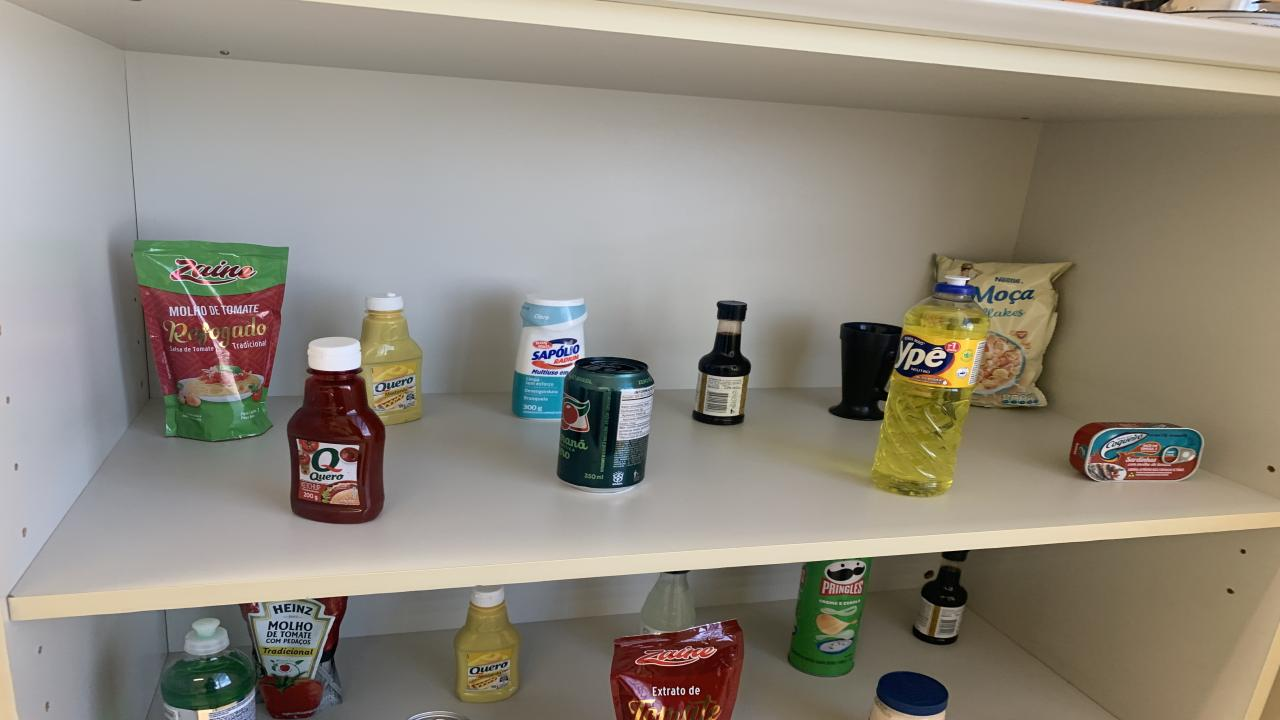Cleaner-Cleanup_Items: (512, 292, 588, 418)
Detergent-Cleanup_Items: (872, 278, 990, 497), (160, 617, 258, 720)
English_Sauce-Pantry_Items: (692, 302, 750, 426), (912, 551, 968, 645), (640, 572, 695, 634)
Flakes-Snacks: (935, 255, 1072, 407)
Guarana_Can-Drinks: (558, 356, 655, 493)
Ketchup-Pantry_Items: (288, 338, 385, 523)
Mayonnaise-Pantry_Items: (870, 671, 948, 720)
Mustard-Pantry_Items: (360, 292, 422, 424), (455, 585, 520, 703)
Pringles-Snacks: (788, 557, 872, 677)
Soda-Drinks: (640, 570, 695, 634)
Tomato_Sauce-Pantry_Items: (132, 240, 288, 441), (610, 619, 745, 720), (240, 596, 348, 718)
Tonic-Drinks: (408, 711, 468, 720)
Tuna_Can-Pantry_Items: (1070, 424, 1205, 482)
